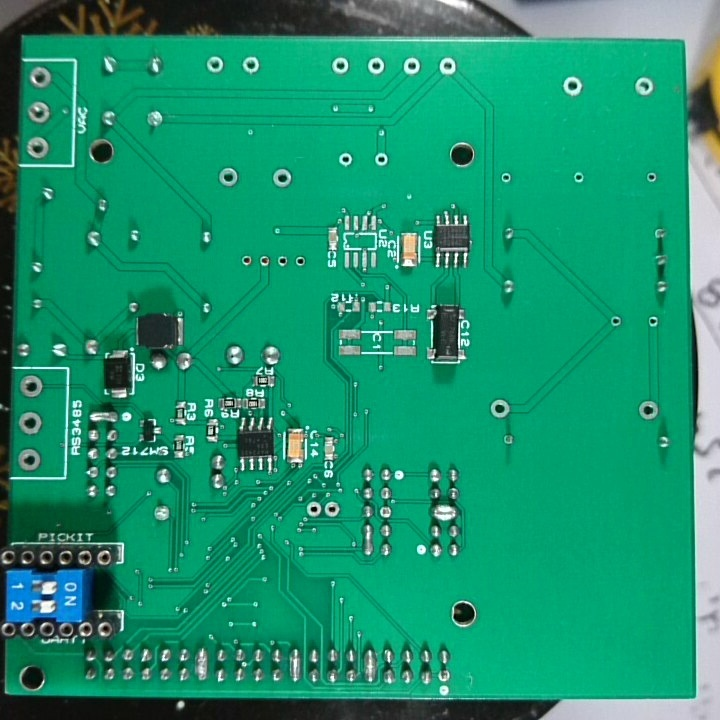F: (17, 372, 46, 403), (16, 408, 44, 439), (16, 443, 41, 475), (27, 64, 55, 92), (25, 98, 53, 126), (631, 73, 657, 100), (23, 135, 50, 161), (561, 72, 587, 98), (487, 395, 512, 422), (216, 163, 241, 190), (270, 166, 293, 193), (436, 55, 460, 80), (239, 54, 264, 78), (399, 55, 424, 78), (365, 55, 389, 78), (638, 398, 660, 423), (150, 503, 173, 526), (204, 53, 228, 75), (144, 108, 167, 130), (322, 498, 343, 522), (372, 148, 390, 173), (330, 55, 352, 75), (336, 148, 356, 169), (435, 666, 455, 686), (304, 500, 324, 520), (651, 224, 670, 243), (501, 428, 519, 448), (376, 503, 396, 521), (256, 249, 271, 272), (239, 251, 255, 272), (645, 312, 661, 332), (293, 252, 308, 273), (607, 312, 624, 329), (276, 254, 290, 274), (644, 169, 660, 186), (499, 169, 515, 186), (572, 169, 587, 186)
P: (193, 644, 210, 685), (427, 503, 462, 521), (363, 646, 378, 685), (360, 521, 375, 560), (287, 643, 301, 683), (88, 409, 119, 425)
